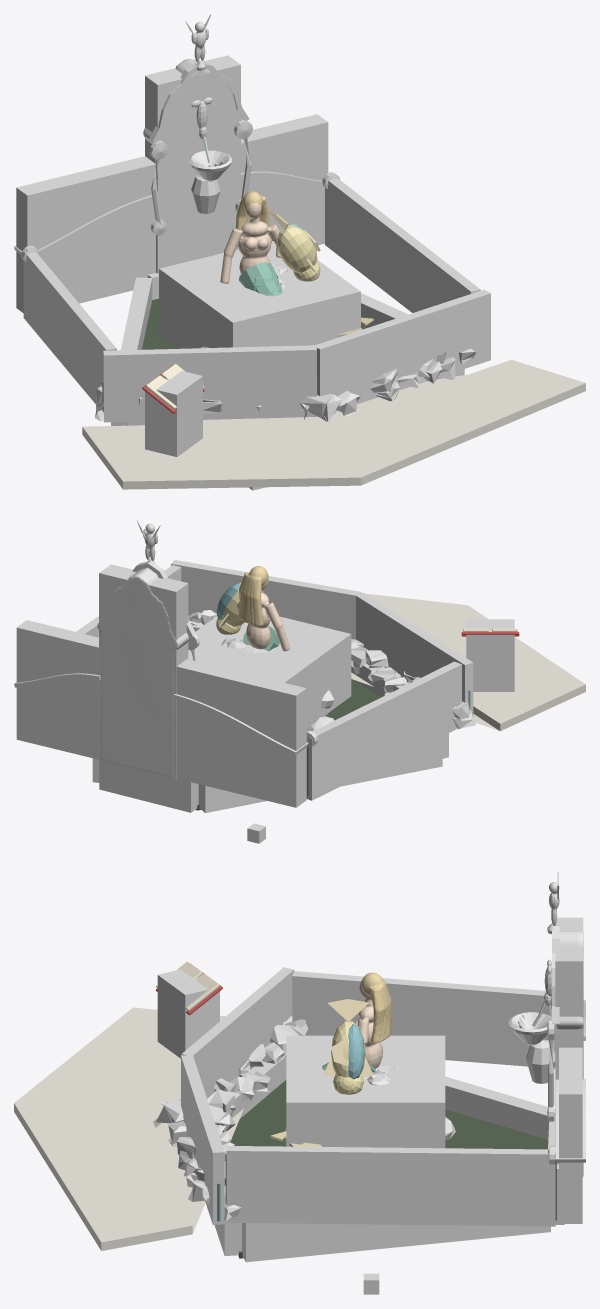
File: ZM_zeemeermin.fbx
3 renders of one model, top to bottom at view 1: azimuth 30°, elevation 25°; view 2: azimuth 150°, elevation 25°; view 3: azimuth 270°, elevation 25°, orthographic. The views are drawn at different scales.
Parts seen in each view (by area): view 1: static__MAT_grind_0, COLL_1, COLL_0, COLL_3, COLL_6, COLL_7, COLL_5, static__TEX_natuursteen_0, COLL_2, COLL_4, COLL_8, static__TEX_breuksteen_0 (+7 smaller); view 2: COLL_1, static__TEX_stuc_A_0, COLL_4, COLL_2, static__TEX_natuursteen_0, COLL_0, static__MAT_grind_0, COLL_7, COLL_6, COLL_3, COLL_8, static__TEX_breuksteen_0 (+7 smaller); view 3: static__MAT_grind_0, COLL_5, static__TEX_natuursteen_0, COLL_0, COLL_4, COLL_6, static__TEX_breuksteen_0, static__MAT_water_0, COLL_2, COLL_7, COLL_8, COLL_3 (+10 smaller).
Part boxes in pixels (x1,y1,x2,y2): static__MAT_grind_0: (82,360,585,489); COLL_1: (16,156,155,307); COLL_0: (159,241,360,348); COLL_3: (145,55,240,273); COLL_6: (103,345,316,422); COLL_7: (313,289,490,411); COLL_5: (325,178,480,312); static__TEX_natuursteen_0: (14,60,464,425); COLL_2: (241,114,328,245); COLL_4: (23,252,116,403); COLL_8: (145,371,202,456); static__TEX_breuksteen_0: (95,349,475,421); COLL_1: (176,659,306,807); static__TEX_stuc_A_0: (97,521,177,777); COLL_4: (306,661,461,800); COLL_2: (16,620,98,759); static__TEX_natuursteen_0: (14,558,448,812); COLL_0: (188,616,351,728); static__MAT_grind_0: (351,593,585,731); COLL_7: (171,560,361,639); COLL_6: (356,592,473,718); COLL_3: (99,564,188,778); COLL_8: (466,619,514,691); static__TEX_breuksteen_0: (189,610,475,729); static__MAT_grind_0: (14,1007,243,1250); COLL_5: (226,1146,555,1226); static__TEX_natuursteen_0: (214,923,585,1262); COLL_0: (286,1035,445,1148); COLL_4: (292,971,555,1068); COLL_6: (181,967,294,1098); static__TEX_breuksteen_0: (156,1015,307,1221); static__MAT_water_0: (230,1080,548,1149); COLL_2: (559,1047,582,1223); COLL_7: (181,1055,224,1224); COLL_8: (157,969,219,1058); COLL_3: (555,917,583,1176).
Bounding box in the file's own units: 7 × 5.94 × 7.2.
